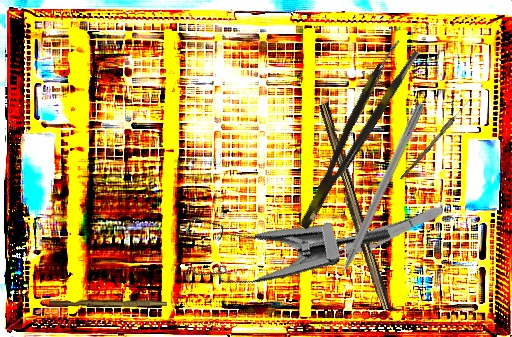Pusher: (323, 100, 427, 302)
Scalpel Handle: (312, 102, 395, 312), (48, 297, 168, 309)
Speculum: (165, 147, 392, 323)
Surgical Spoon: (399, 95, 474, 182)
Tissue Forceps: (283, 37, 421, 232), (318, 199, 447, 268)
